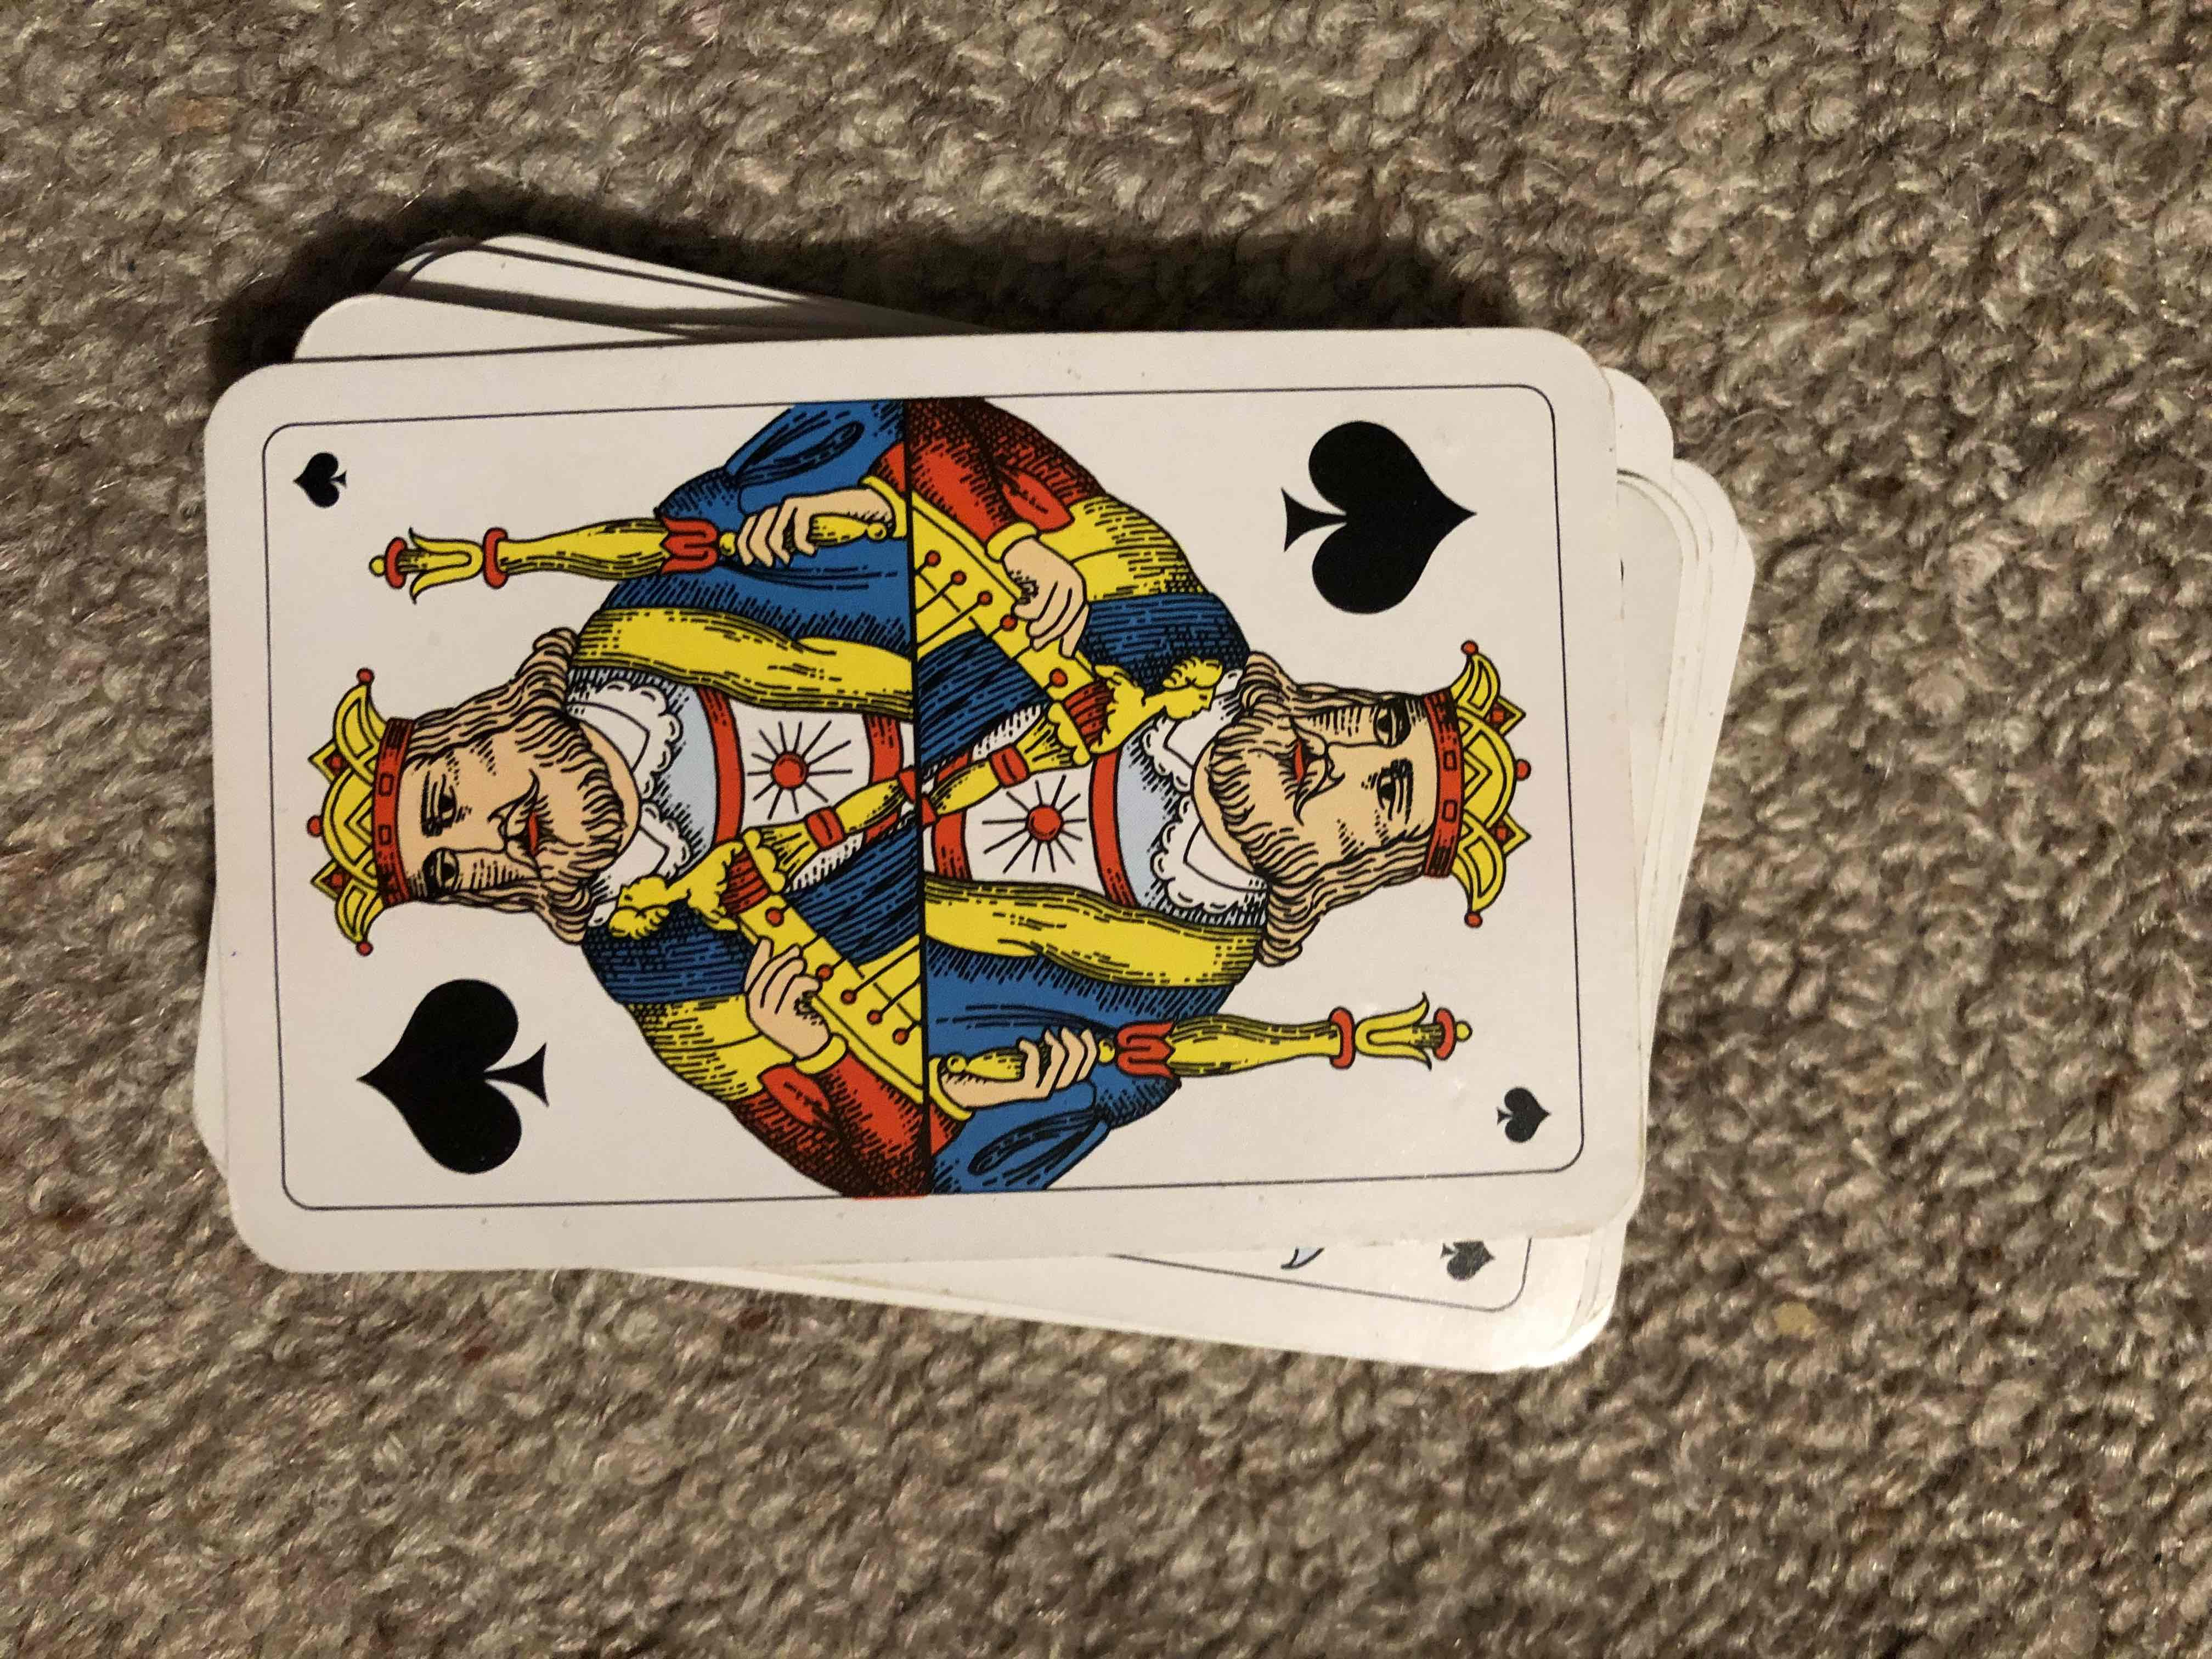spadesKing: (225, 361, 1646, 1206)
